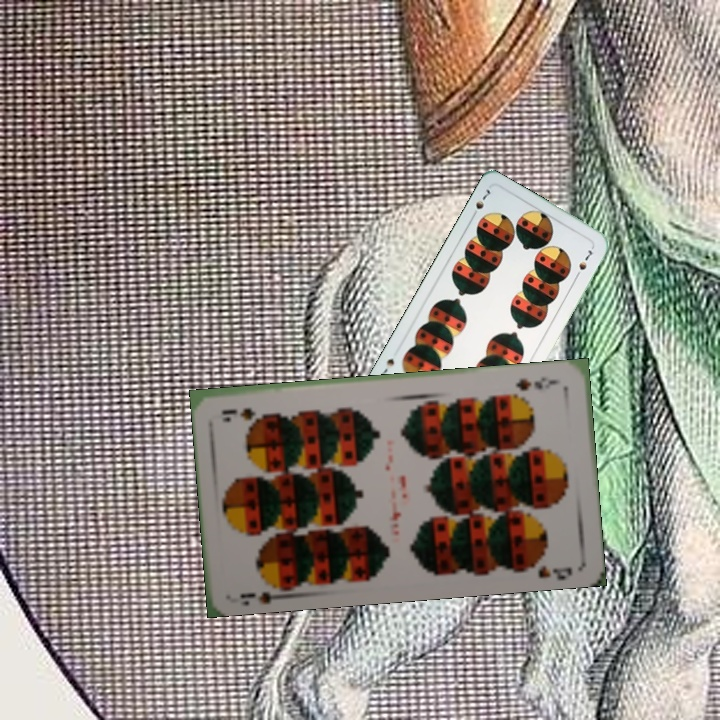S7: (467, 185, 493, 221)
S9: (236, 576, 290, 605), (512, 373, 563, 393)
